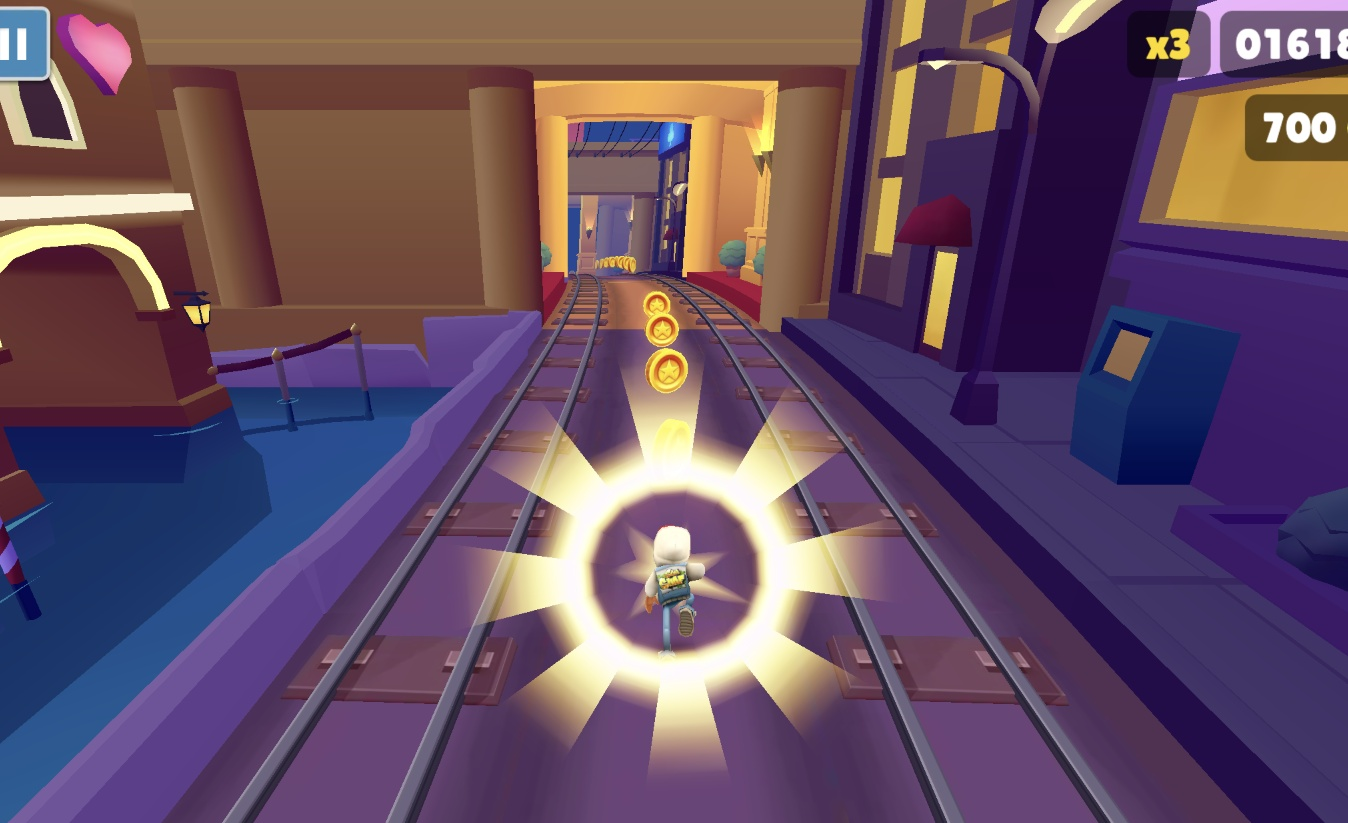pillar: (580, 193, 600, 273)
